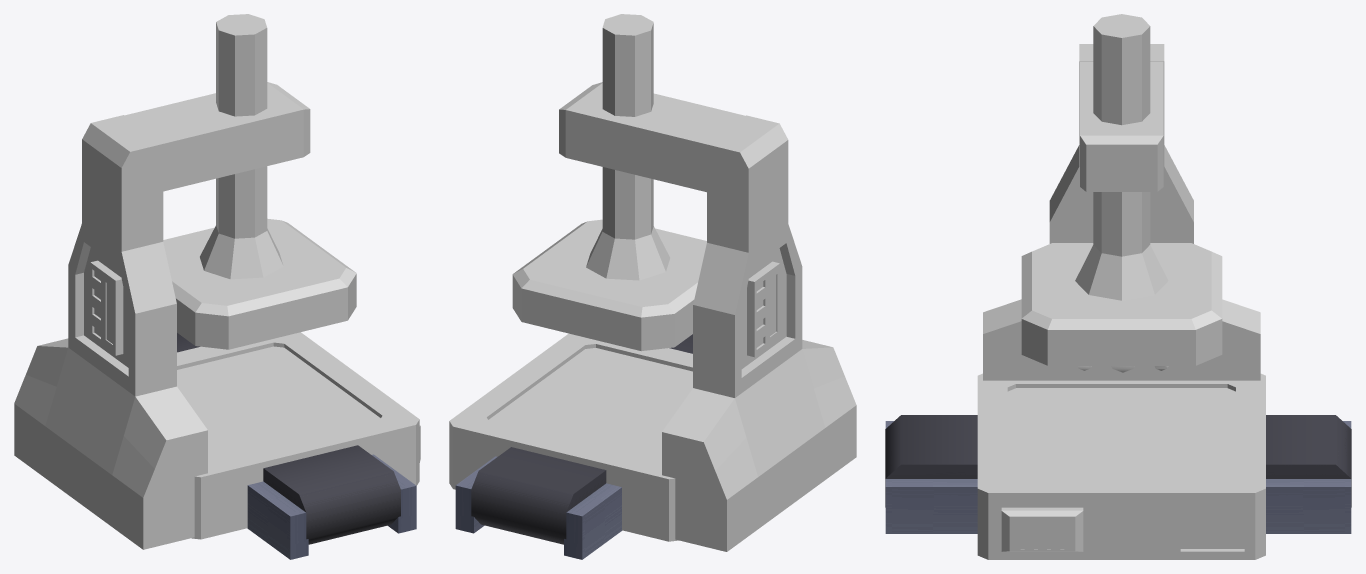
The model's file is PlatesFactory.glb.
3 views of the same model, side by side, from view 1: azimuth 30°, elevation 25°; view 2: azimuth 150°, elevation 25°; view 3: azimuth 270°, elevation 25° (orthographic). The views are drawn at different scales.
Visible parts, largest first — view 1: Cube.005, Cube.004, Cube.006, Cylinder, Cube.007, conveyor.004, Cube.008, Cube; view 2: Cube.005, Cube.004, Cube.006, Cylinder, Cube.007, conveyor.005, Cube.009, Cube; view 3: Cube.004, Cube.006, Cube.005, Cylinder, Cube.007, conveyor.004, conveyor.005, Cube.008, Cube.009, Cube.021.
Part boxes in pixels (x1,y1,x2,y2): Cube.005: [14, 115, 207, 549]; Cube.004: [177, 332, 419, 539]; Cube.006: [163, 218, 356, 349]; Cylinder: [200, 14, 283, 279]; Cube.007: [124, 82, 310, 191]; conveyor.004: [263, 445, 400, 544]; Cube.008: [247, 454, 416, 559]; Cube: [90, 260, 123, 355]; Cube.005: [662, 115, 856, 551]; Cube.004: [449, 333, 692, 541]; Cube.006: [512, 219, 706, 351]; Cylinder: [586, 14, 669, 280]; Cube.007: [559, 82, 745, 192]; conveyor.005: [471, 447, 606, 544]; Cube.009: [455, 456, 622, 559]; Cube: [747, 261, 779, 357]; Cube.004: [977, 373, 1265, 559]; Cube.006: [1021, 243, 1222, 365]; Cube.005: [983, 44, 1260, 380]; Cylinder: [1075, 14, 1168, 300]; Cube.007: [1080, 61, 1163, 191]; conveyor.004: [885, 415, 977, 507]; conveyor.005: [1266, 415, 1351, 507]; Cube.008: [885, 421, 977, 533]; Cube.009: [1266, 421, 1351, 533]; Cube.021: [1001, 507, 1083, 551].
Bounding box in the file's own units: 2.3 × 3.33 × 2.97.
Materials: 1 (1 with a texture image).
